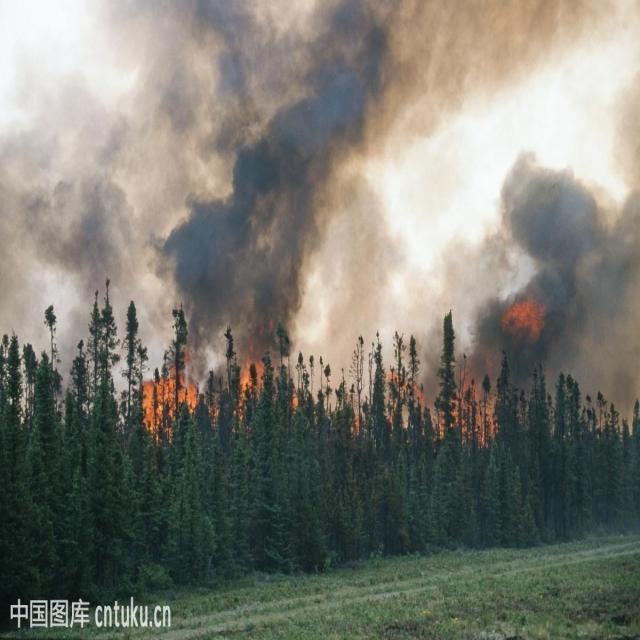Fire: (140, 346, 200, 446), (438, 369, 496, 451), (237, 357, 266, 422), (500, 300, 546, 334)
Smoke: (0, 0, 640, 399)
